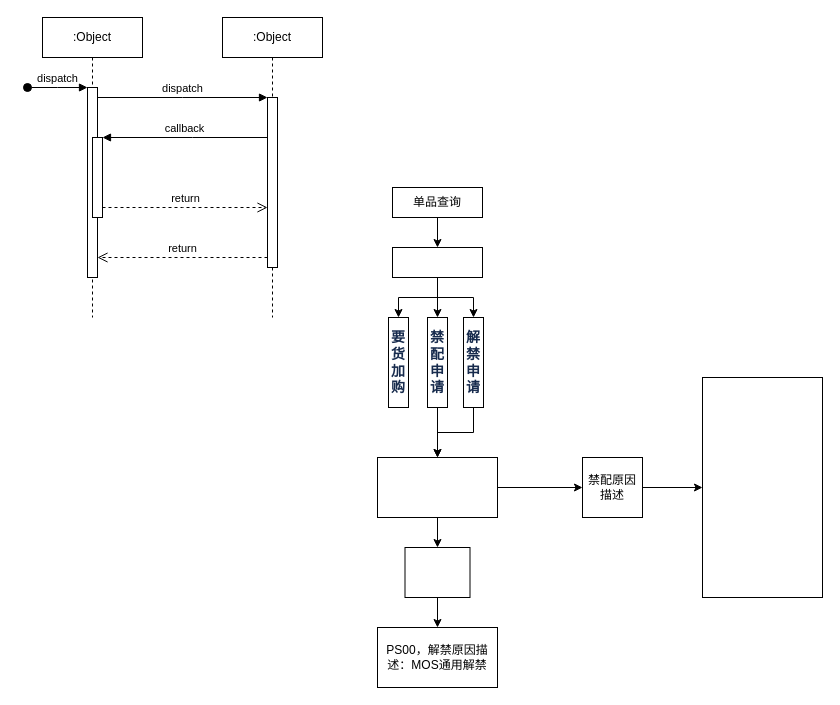
The diagram is 840 pixels wide and 705 high, and some of its shapes have lost their labels. Here are the shapes that lost their labels. From the top down, the box of each, then its label:
(392, 246, 482, 278): 点击商品管理
(376, 456, 498, 518): 确认界面（商品条码、sku编码、商品名称均取自SAP商品主数据）+原因
(702, 376, 822, 598): PS01 季节差异 PS02 商圈差异 PS03 地域特征 PS04 单店特性 PS05 宗教信仰 PS06 政府管制 PS07 100平方以下 PS99 初始
(404, 546, 470, 598): 解禁原因描述
